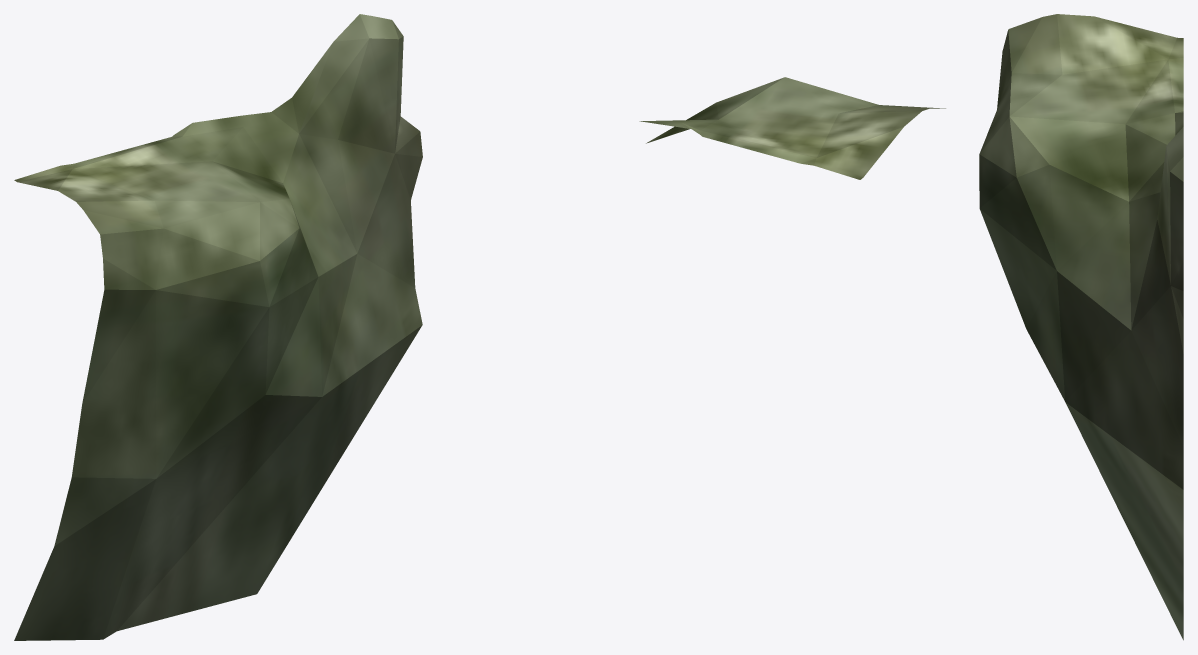
The picture shows the model from 3 angles, left to right: view 1: azimuth 30°, elevation 25°; view 2: azimuth 150°, elevation 25°; view 3: azimuth 270°, elevation 25°; orthographic projection.
Size of the model in its own units: 0.9043 by 1.19 by 0.384.
1 material, 1 textured.
